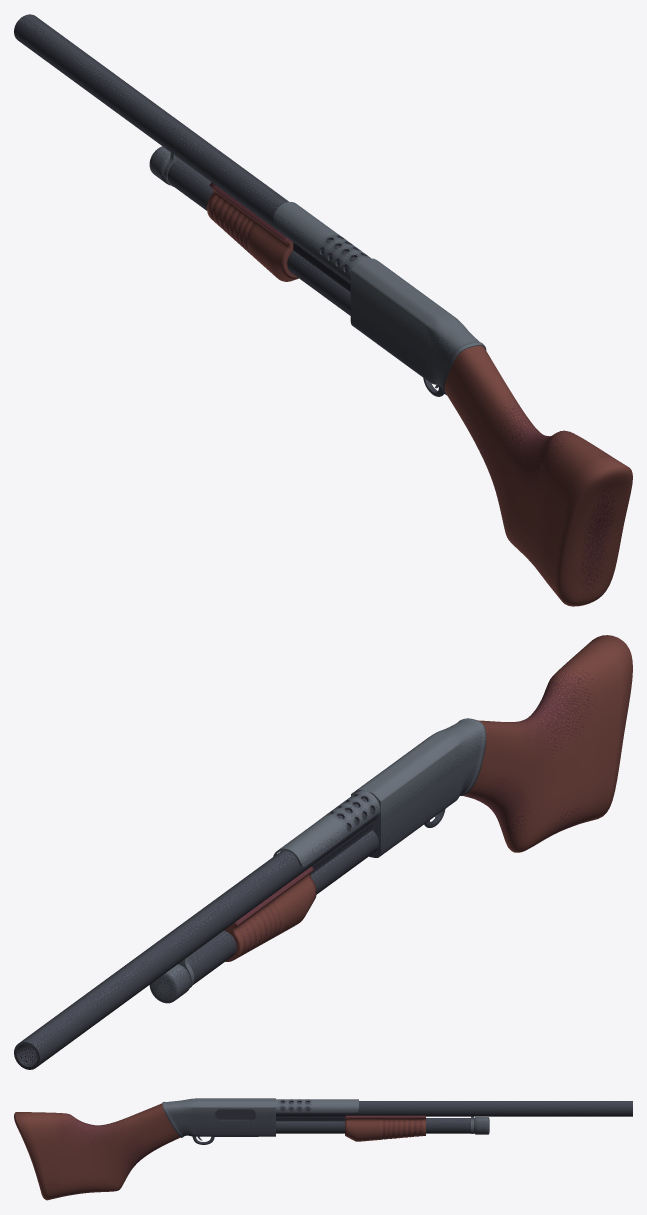
File: shotgun.glb
3 views of the same model, one above another, from view 1: azimuth 30°, elevation 25°; view 2: azimuth 150°, elevation 25°; view 3: azimuth 270°, elevation 25° (orthographic). The views are drawn at different scales.
Parts seen in each view (by area): view 1: shotgun_hd; view 2: shotgun_hd; view 3: shotgun_hd.
Boxes of the visible parts, left/top/right/bottom form: shotgun_hd: left=14, top=14, right=632, bottom=606; shotgun_hd: left=14, top=635, right=632, bottom=1069; shotgun_hd: left=14, top=1098, right=632, bottom=1200.
Bounding box in the file's own units: 0.0492 × 0.15 × 0.8532.
1 material, 1 textured.
